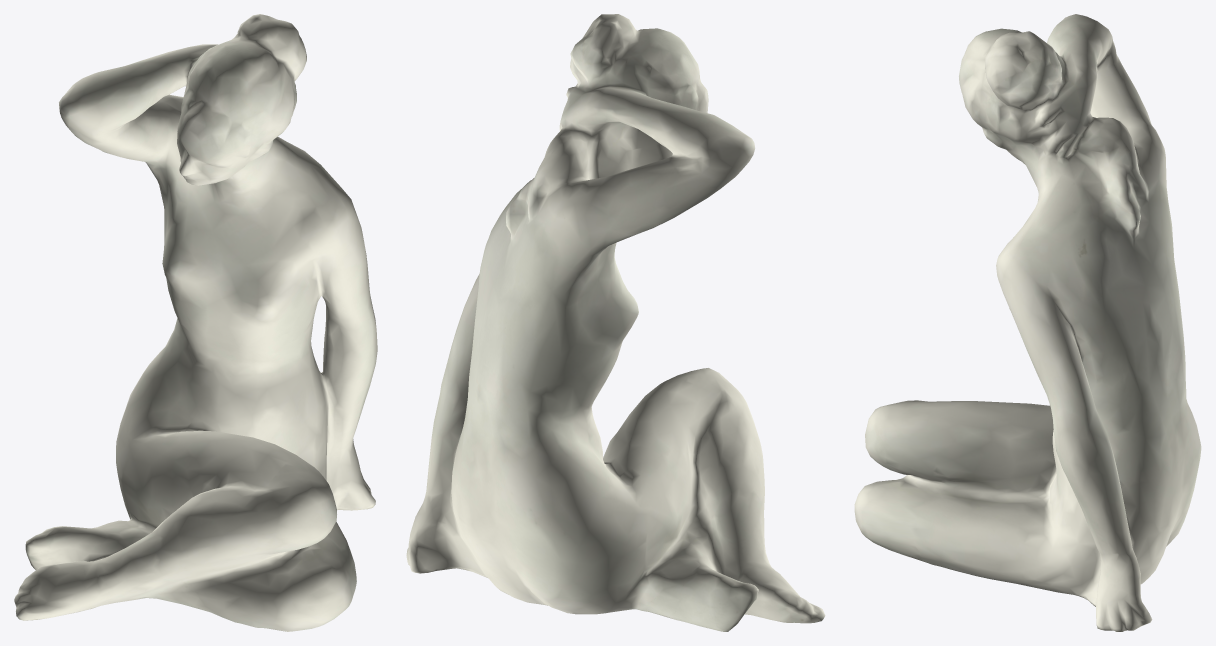
The model's file is opti.obj.
3 views of the same model, side by side, from view 1: azimuth 30°, elevation 25°; view 2: azimuth 150°, elevation 25°; view 3: azimuth 270°, elevation 25° (orthographic). The views are drawn at different scales.
Parts seen in each view (by area): view 1: lowPoly; view 2: lowPoly; view 3: lowPoly.
Boxes of the visible parts, box(x1,y1,x2,y2) form: lowPoly: box(14, 14, 377, 631); lowPoly: box(406, 14, 825, 631); lowPoly: box(854, 14, 1201, 631).
Bounding box in the file's own units: 2957 × 4025 × 2399.
